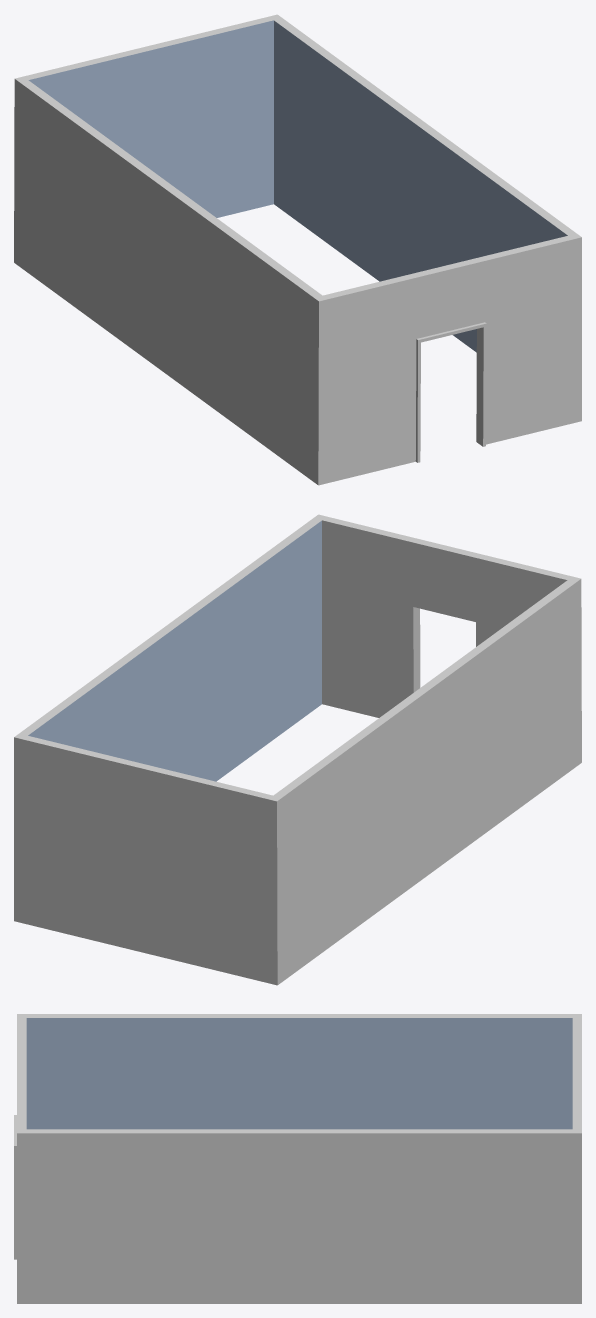
File: room-1.dae
3 views of the same model, one above another, from view 1: azimuth 30°, elevation 25°; view 2: azimuth 150°, elevation 25°; view 3: azimuth 270°, elevation 25° (orthographic). The views are drawn at different scales.
Visible parts, largest first — view 1: SketchUp (×2); view 2: SketchUp (×2); view 3: SketchUp (×2).
Part boxes in pixels (<box>): SketchUp (×2): <box>14,14,581,485</box>; SketchUp (×2): <box>14,514,581,985</box>; SketchUp (×2): <box>14,1014,581,1303</box>.
Bounding box in the file's own units: 180 × 362 × 120.
